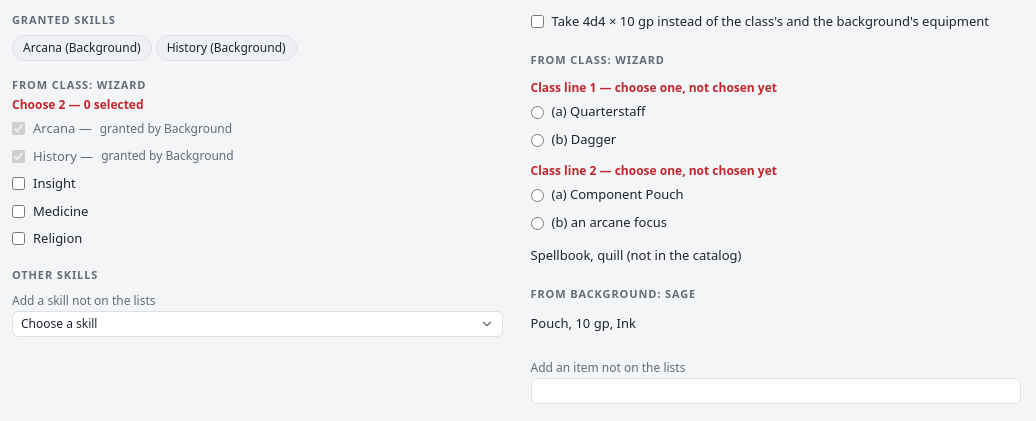
Test: ProficienciesStep › lands picked skills, and notes a pick past the count rather than refusing it
Click the checkbox labelled "Insight" at (18, 184), box [12,177,25,190]
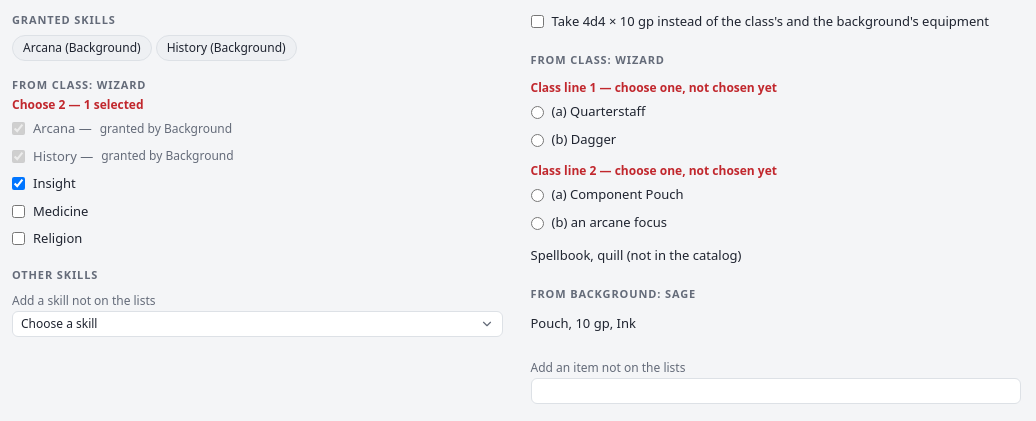
Click the checkbox labelled "Religion" at (18, 239), box [12,232,25,245]
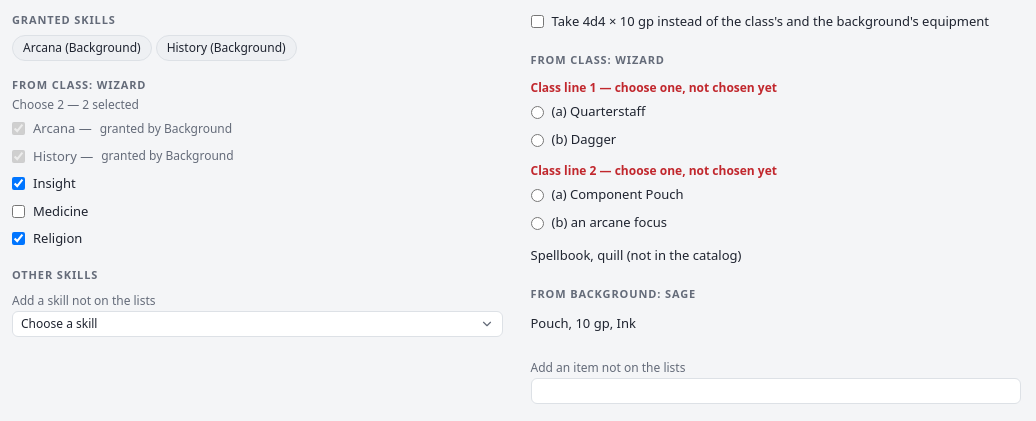
Result: the text "Choose 2 — 2 selected" is shown at [12,96,139,113]
Click the checkbox labelled "Medicine" at (18, 211), box [12,205,25,218]
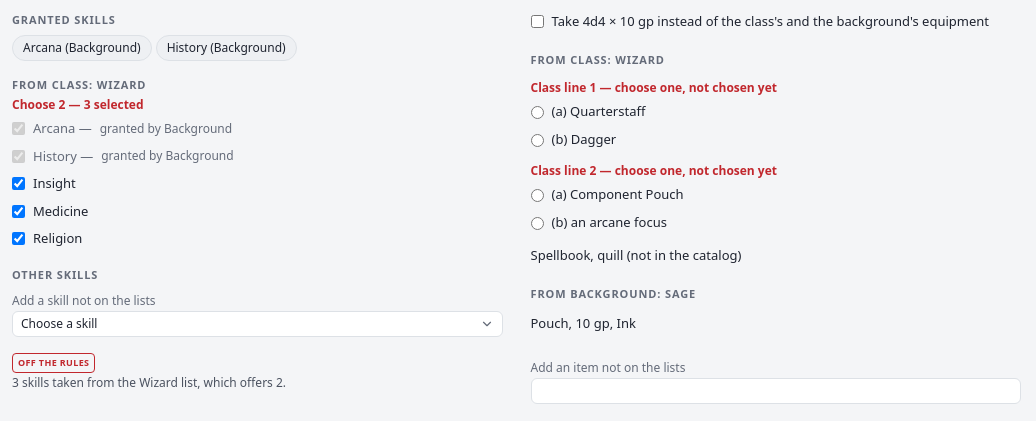
Result: the text "3 skills taken from the Wizard list, which offers 2." is shown at [12,374,286,390]
Click the checkbox labelled "Medicine" at (18, 211), box [12,205,25,218]
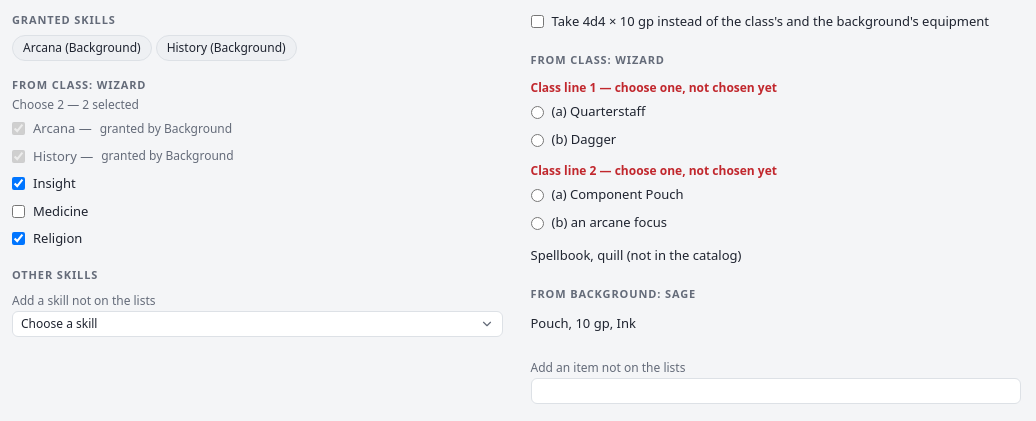
Result: the text "Off the rules" is gone
